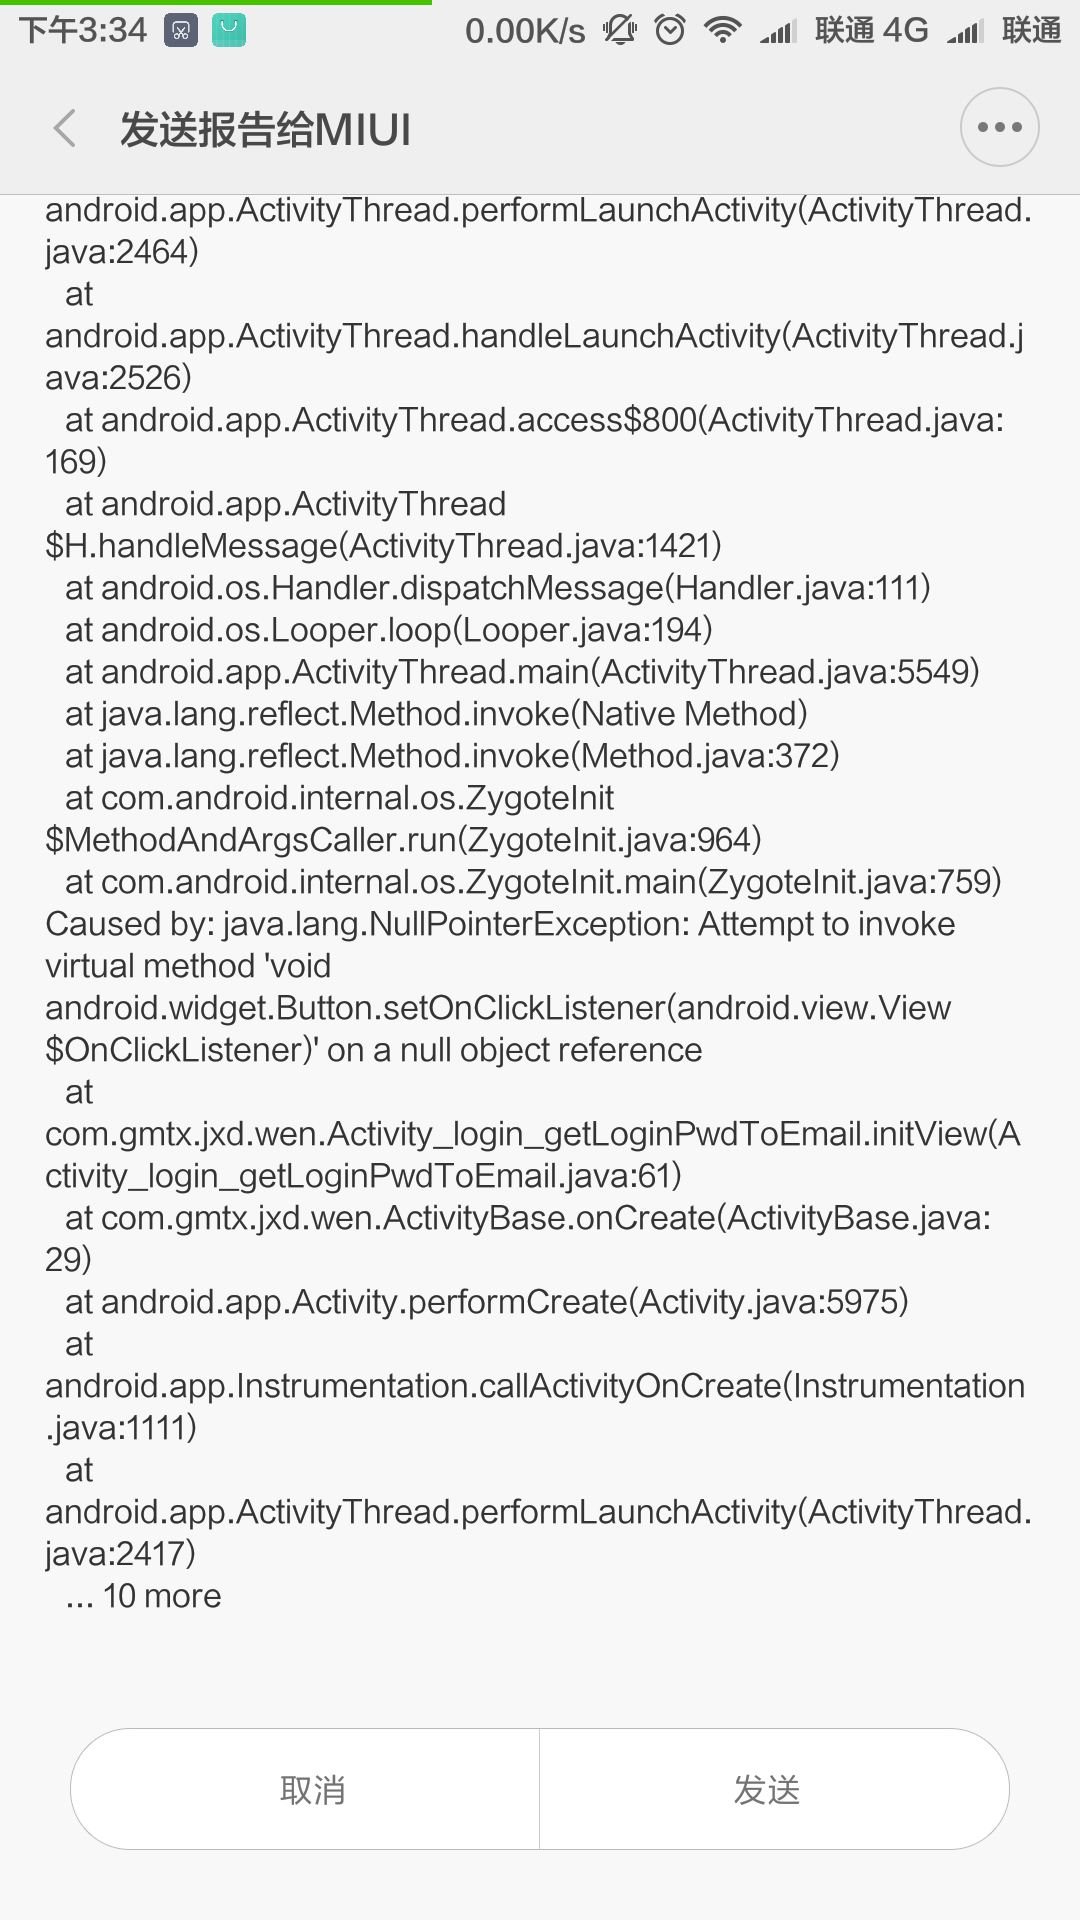button: (531, 1706, 1029, 1863), (63, 1721, 547, 1861)
textview: (26, 175, 1051, 1640)
